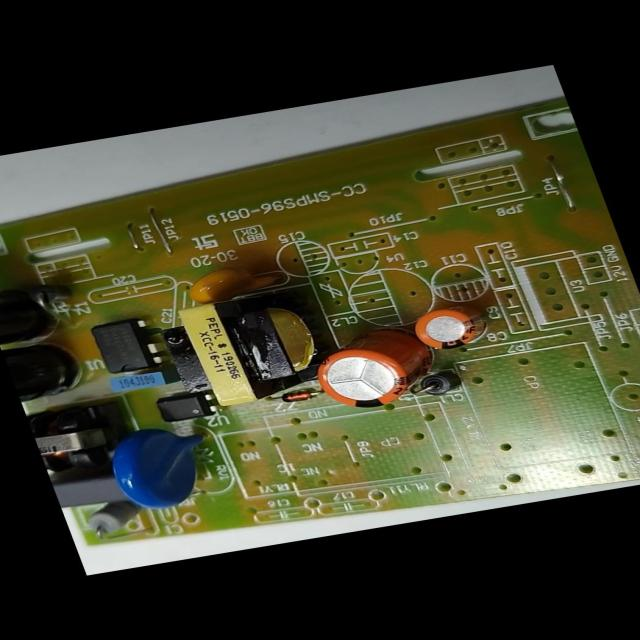Cap1: (296, 312, 451, 418)
Cap2: (402, 297, 508, 357)
Cap3: (0, 332, 102, 408)
Cap4: (0, 275, 76, 347)
MOSFET: (84, 316, 166, 377)
Mov: (95, 418, 237, 516)
Resistor: (76, 496, 152, 544)
Transformer: (169, 279, 344, 410), (25, 396, 144, 477)
